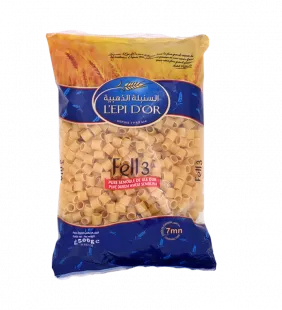L'EPI D'OR: (35, 19, 229, 293)
